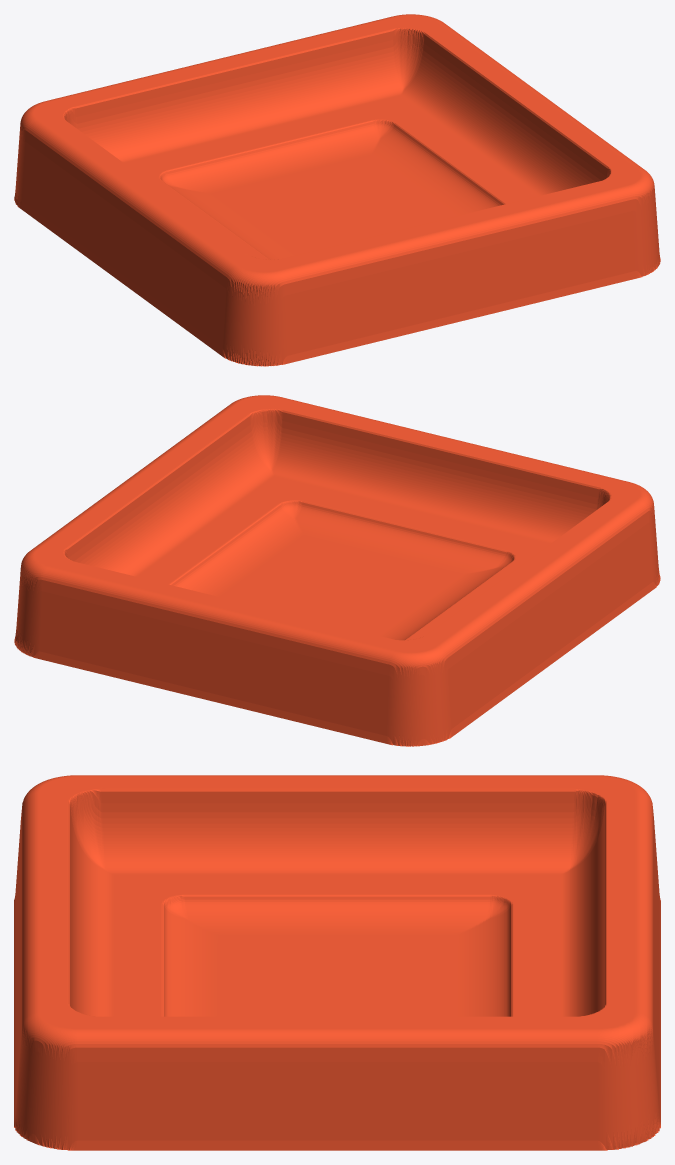
Rendered from mold.glb.
3 renders of one model, top to bottom at view 1: azimuth 30°, elevation 25°; view 2: azimuth 150°, elevation 25°; view 3: azimuth 270°, elevation 25°, orthographic. The views are drawn at different scales.
Visible parts, largest first — view 1: geometry_0; view 2: geometry_0; view 3: geometry_0.
Part boxes in pixels (left/top/right/bottom): geometry_0: left=14, top=14, right=660, bottom=366; geometry_0: left=14, top=395, right=660, bottom=746; geometry_0: left=14, top=775, right=660, bottom=1150.
Bounding box in the file's own units: 0.0924 × 0.0175 × 0.0924.
